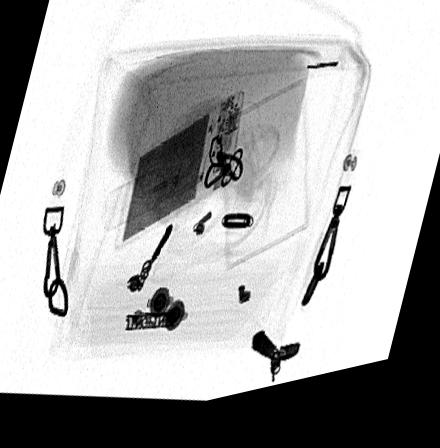Powerbank: (115, 98, 247, 258)
